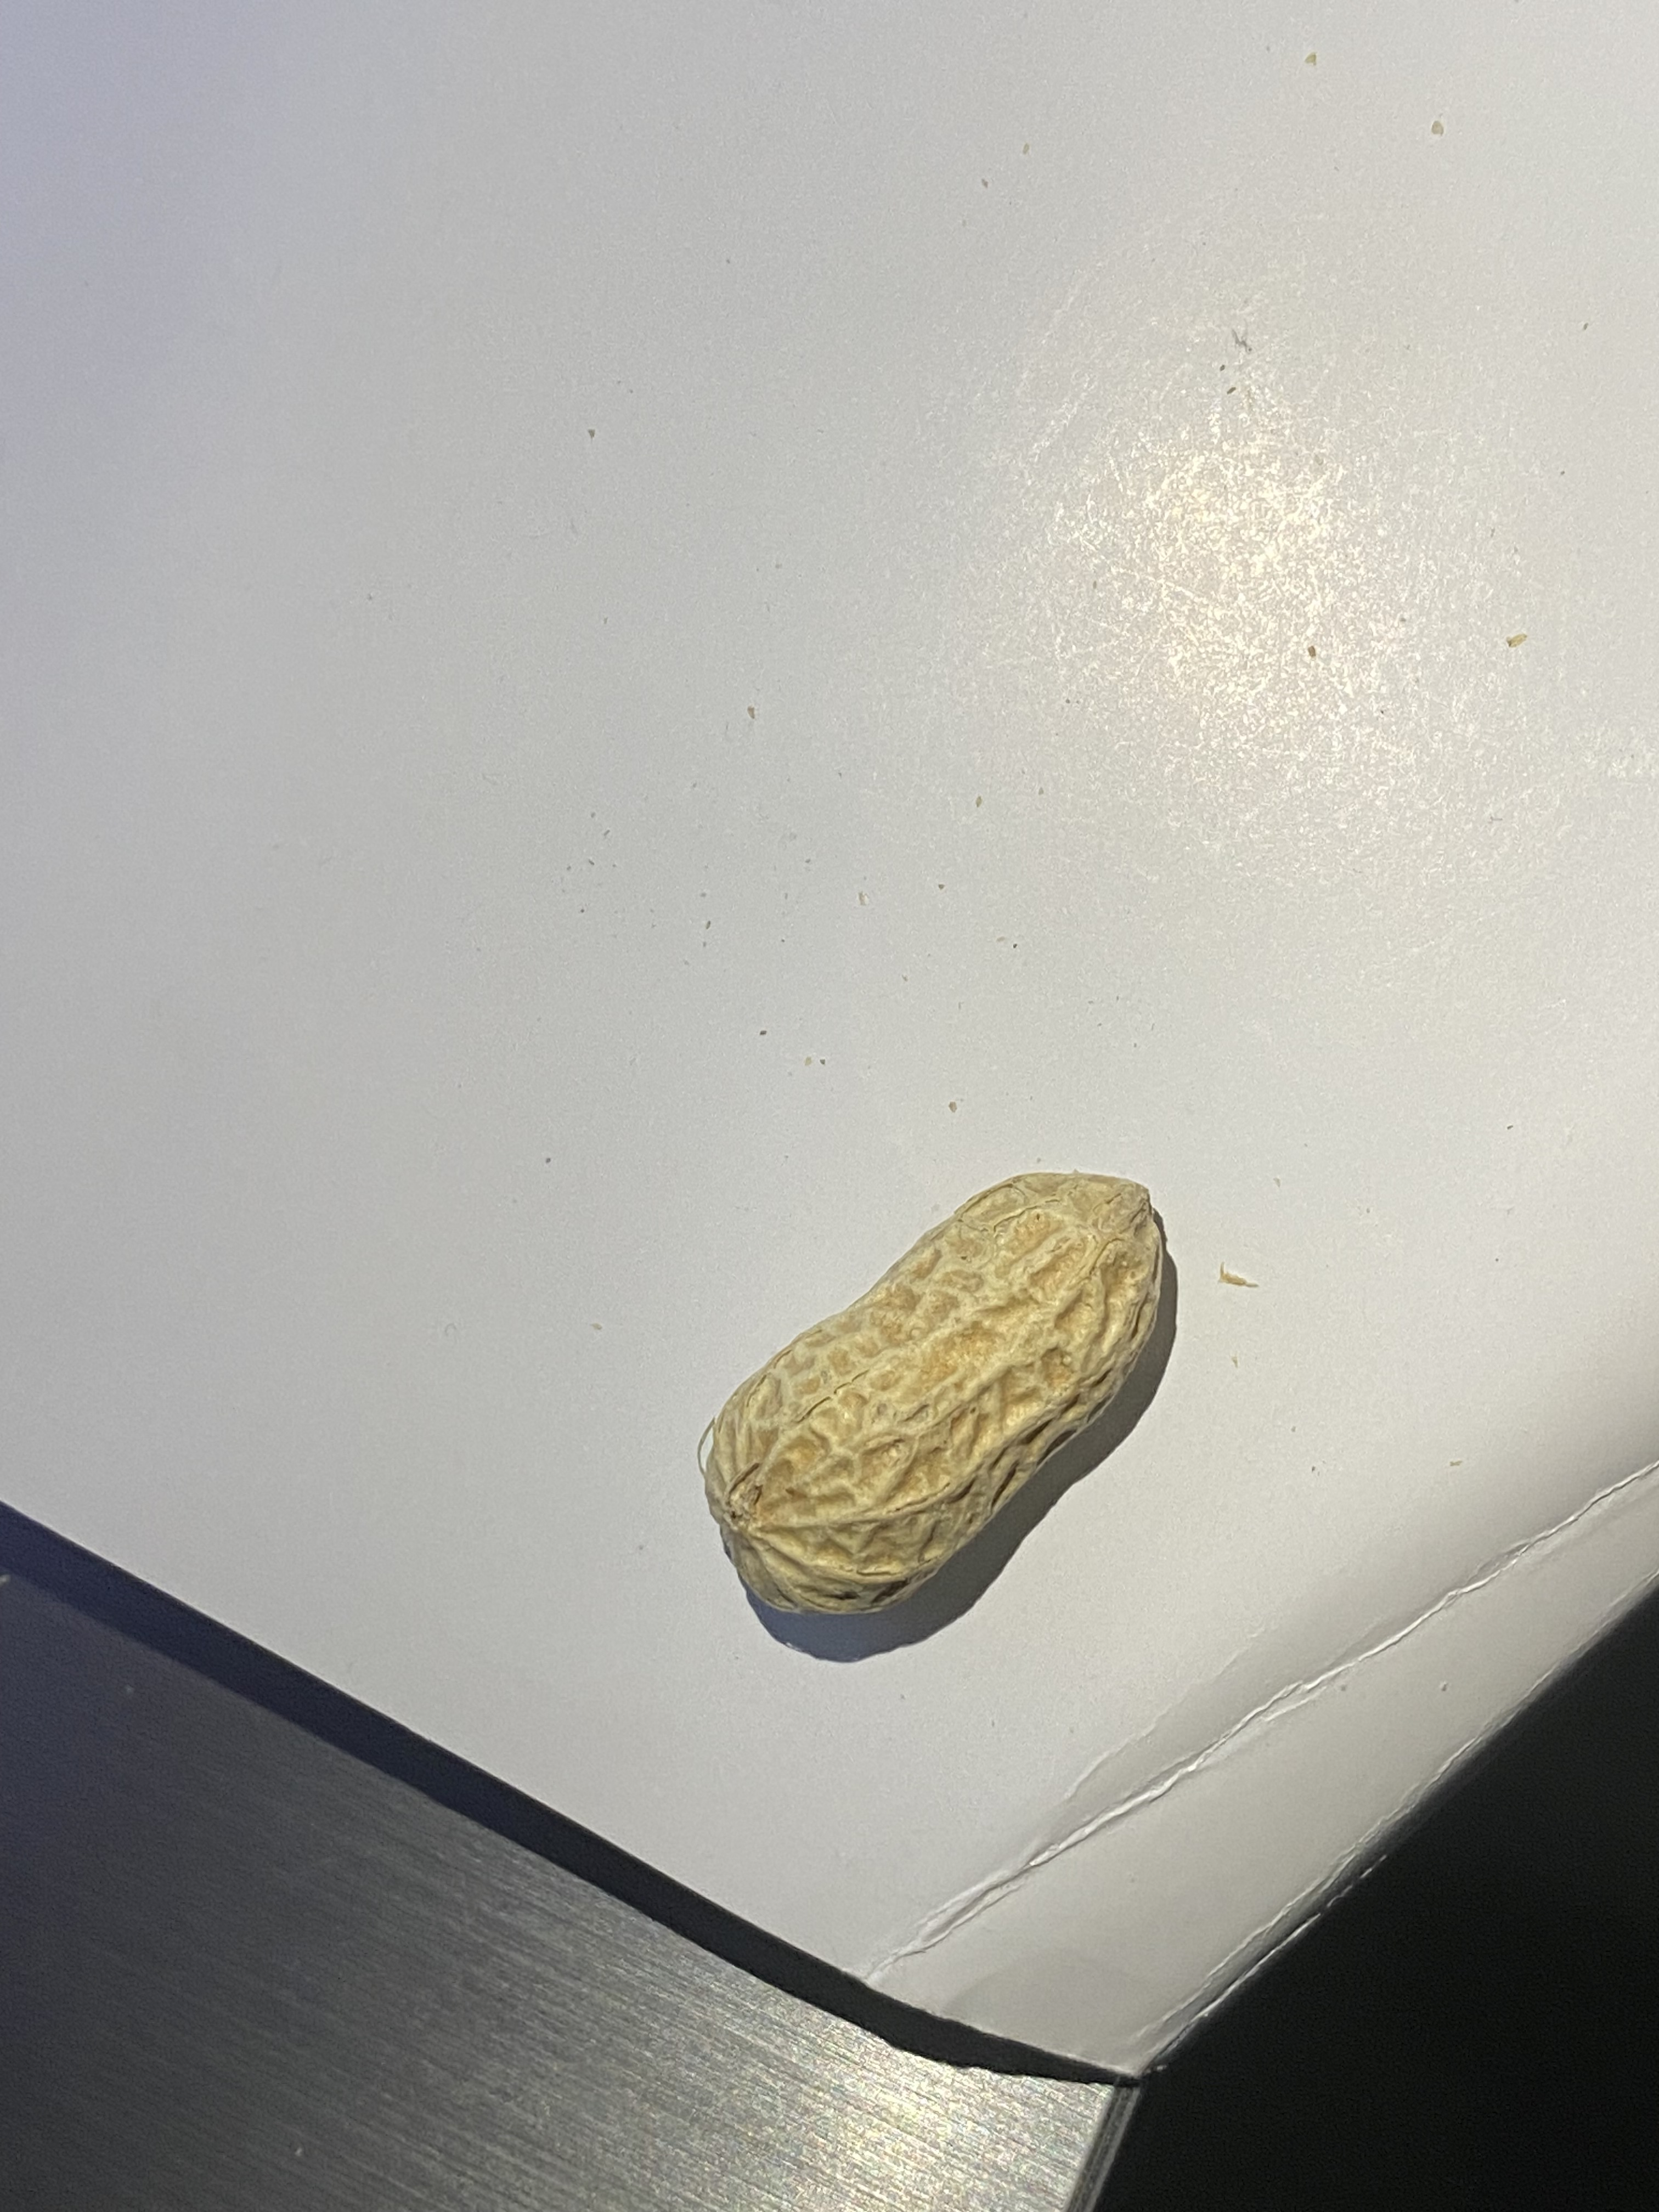kacang2: (697, 1158, 1218, 1651)
